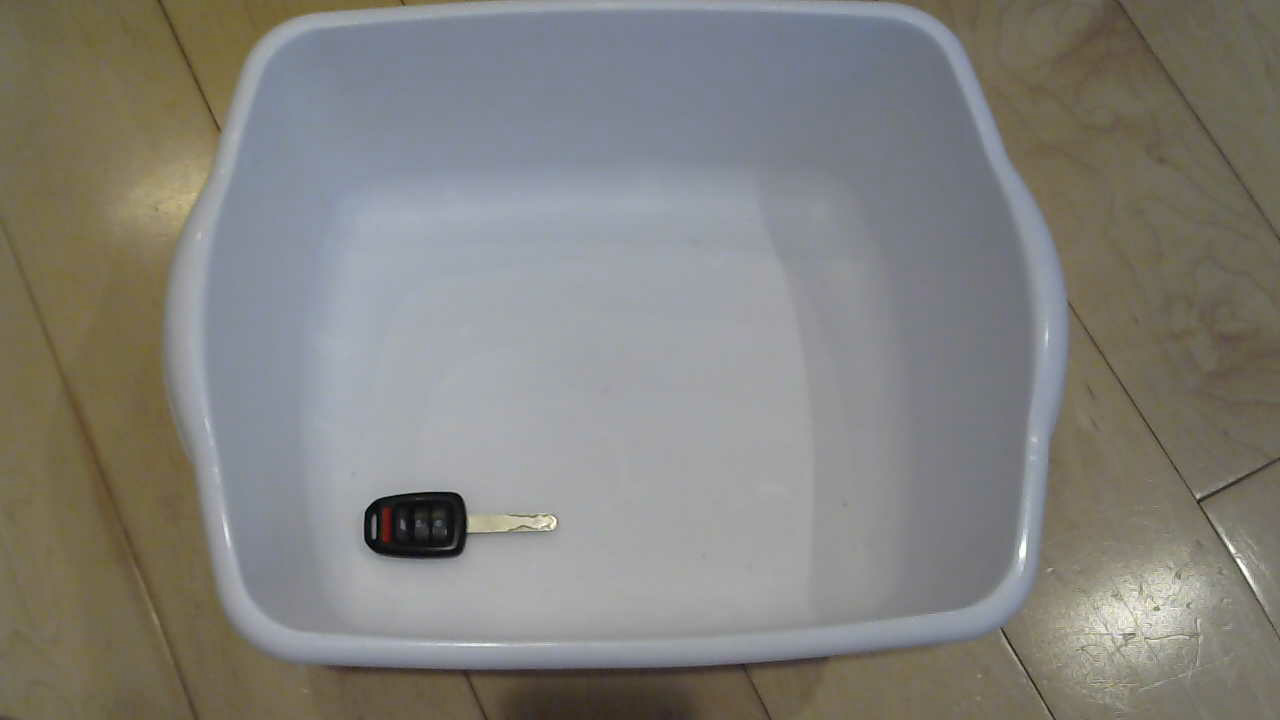key: (353, 489, 568, 578)
